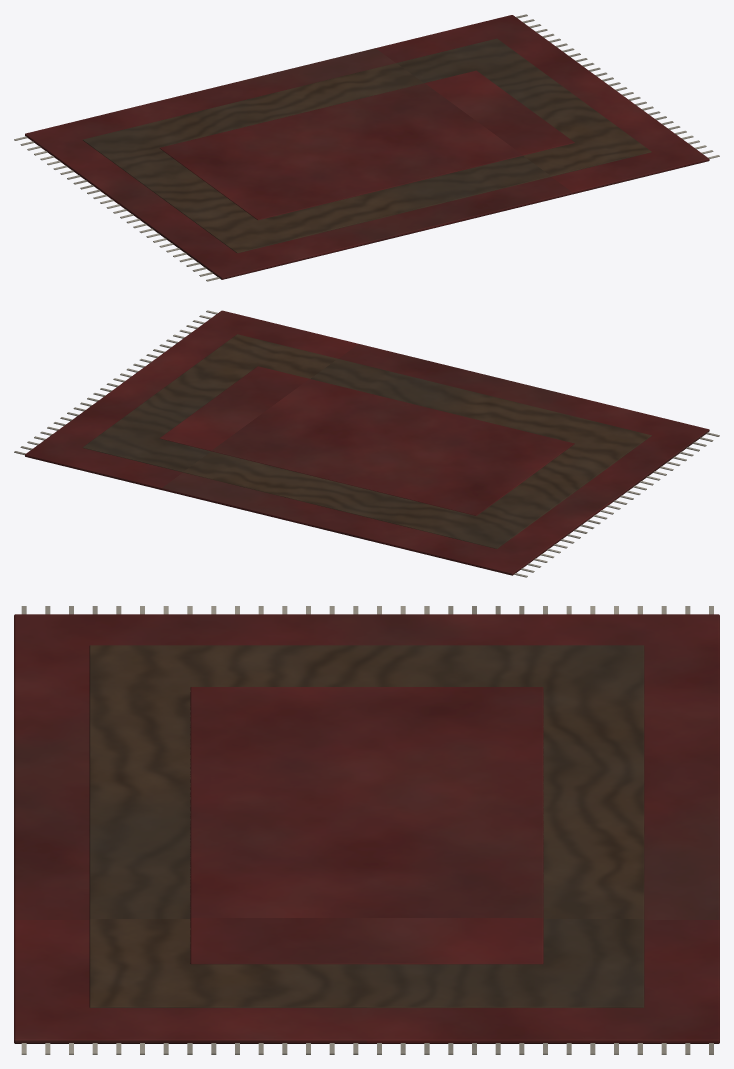
The model's file is L07_floor_rug_v1.glb.
The picture shows the model from 3 angles, top to bottom: view 1: azimuth 30°, elevation 25°; view 2: azimuth 150°, elevation 25°; view 3: azimuth 270°, elevation 25°; orthographic projection. The views are drawn at different scales.
Parts seen in each view (by area): view 1: L07_floor_rug_v1; view 2: L07_floor_rug_v1; view 3: L07_floor_rug_v1.
Part boxes in pixels (left/top/right/bottom): L07_floor_rug_v1: left=14, top=14, right=719, bottom=281; L07_floor_rug_v1: left=14, top=310, right=719, bottom=577; L07_floor_rug_v1: left=14, top=606, right=719, bottom=1054.
Bounding box in the file's own units: 2 × 0.0133 × 1.33.
Materials: 4 (4 with a texture image).
